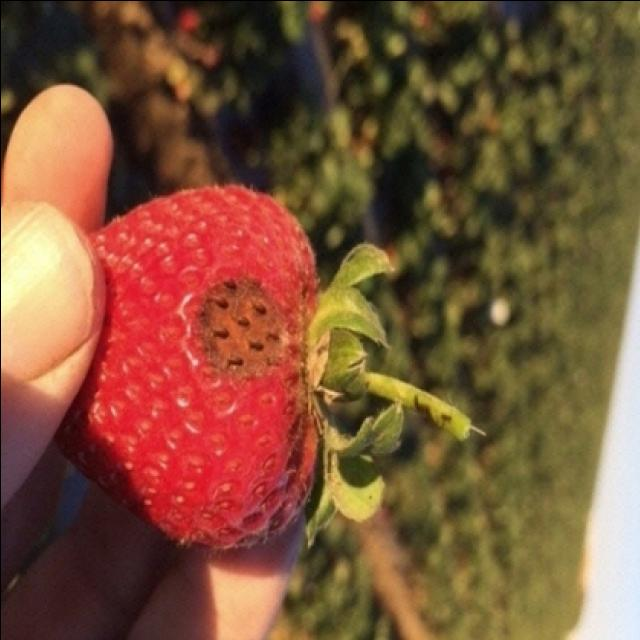Anthracnose Fruit Rot: (192, 277, 295, 379)
